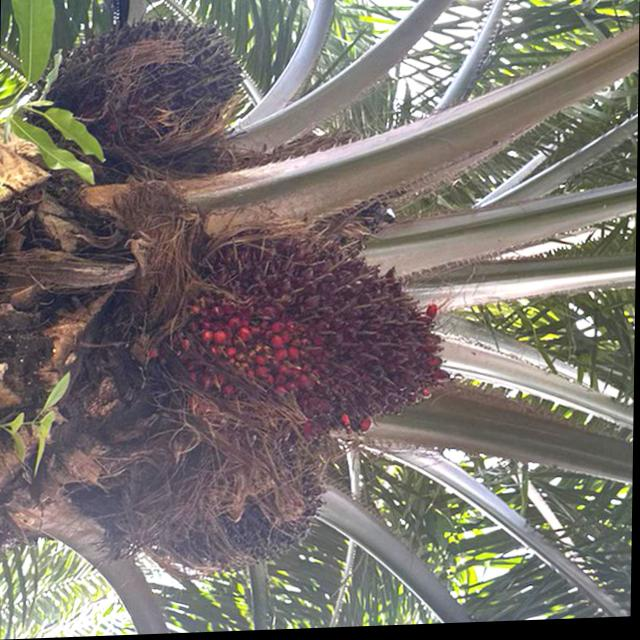ripe: (172, 219, 454, 450), (112, 405, 334, 582), (56, 8, 258, 160)
